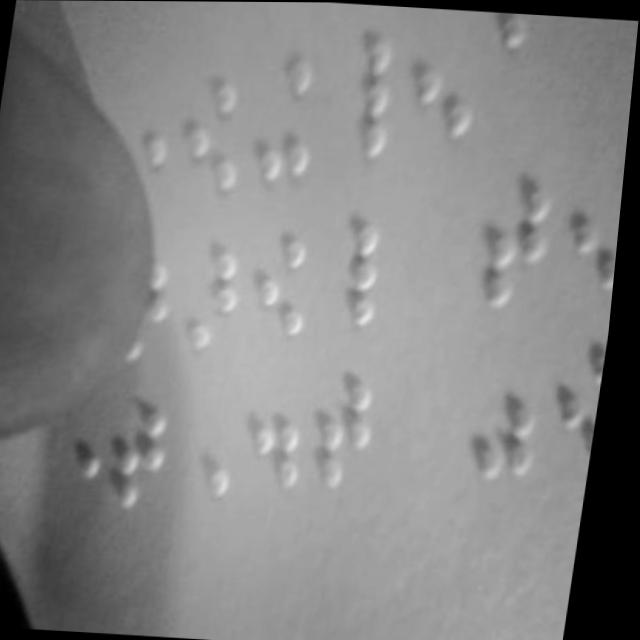braiile: (318, 29, 407, 169), (482, 175, 567, 309), (171, 75, 257, 205), (472, 361, 557, 492), (250, 55, 328, 186), (310, 377, 392, 500), (178, 378, 256, 506), (117, 379, 190, 513), (407, 23, 485, 144), (249, 371, 323, 498), (179, 241, 256, 362), (244, 229, 325, 342), (317, 225, 394, 335), (564, 164, 628, 295), (551, 347, 613, 475), (618, 20, 639, 133)
